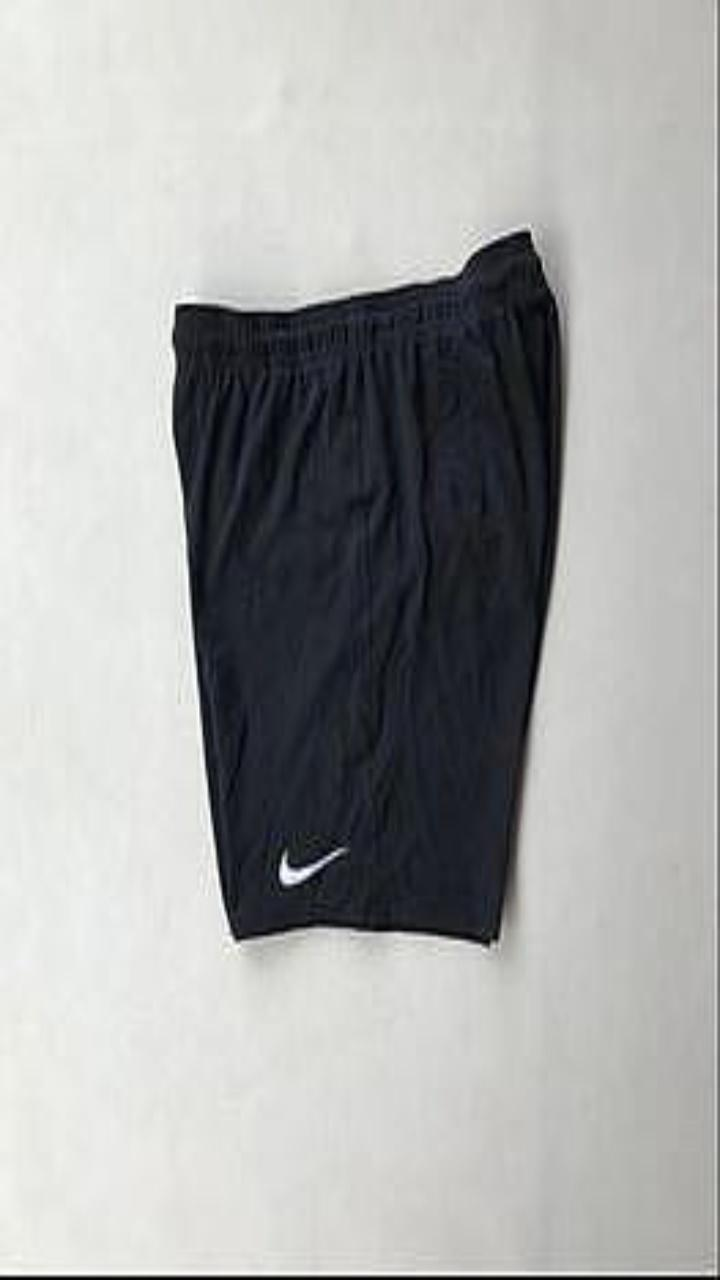Shorts: (173, 232, 559, 942)
